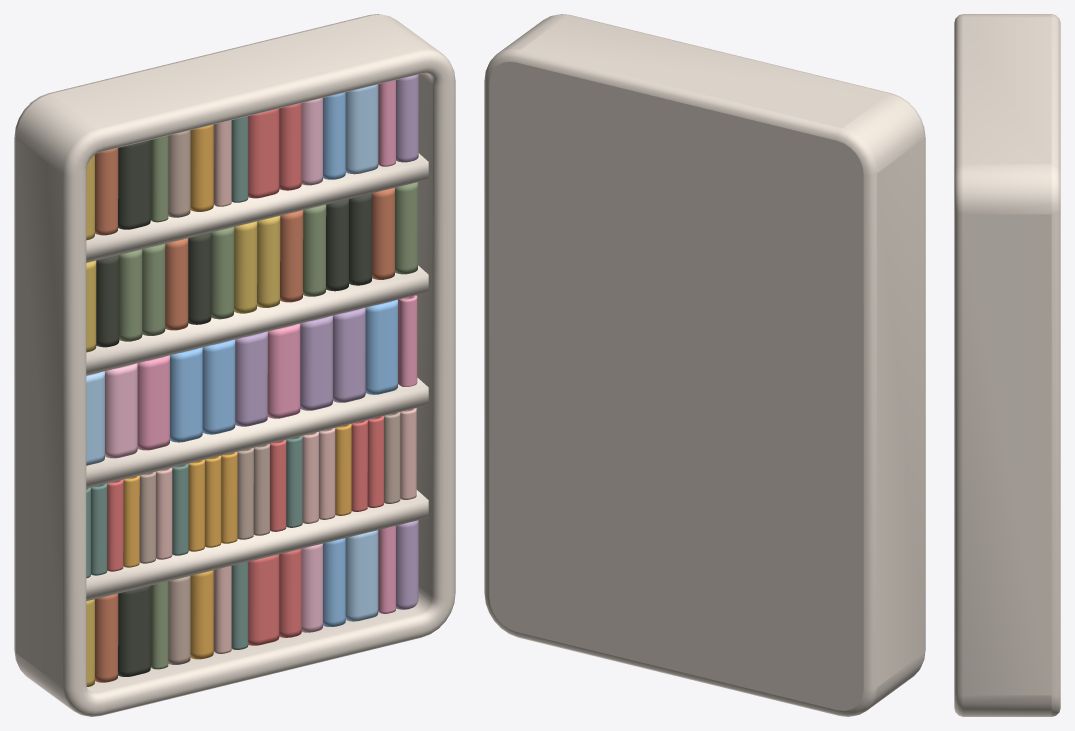
The model's file is Splash.glb.
3 renders of one model, left to right at view 1: azimuth 30°, elevation 25°; view 2: azimuth 150°, elevation 25°; view 3: azimuth 270°, elevation 25°, orthographic. The views are drawn at different scales.
Visible parts, largest first — view 1: BookShelf, BookShelf.003, BookShelf.002, BookShelf.004, BookShelf.001; view 2: BookShelf; view 3: BookShelf.
Part boxes in pixels (bbox=[...]): BookShelf: bbox=[14, 14, 455, 716]; BookShelf.003: bbox=[86, 520, 418, 686]; BookShelf.002: bbox=[86, 74, 418, 240]; BookShelf.004: bbox=[398, 295, 417, 386]; BookShelf.001: bbox=[378, 80, 395, 166]; BookShelf: bbox=[484, 14, 925, 716]; BookShelf: bbox=[954, 14, 1060, 716].
Size of the model in its own units: 1.4 by 2 by 0.3513.
